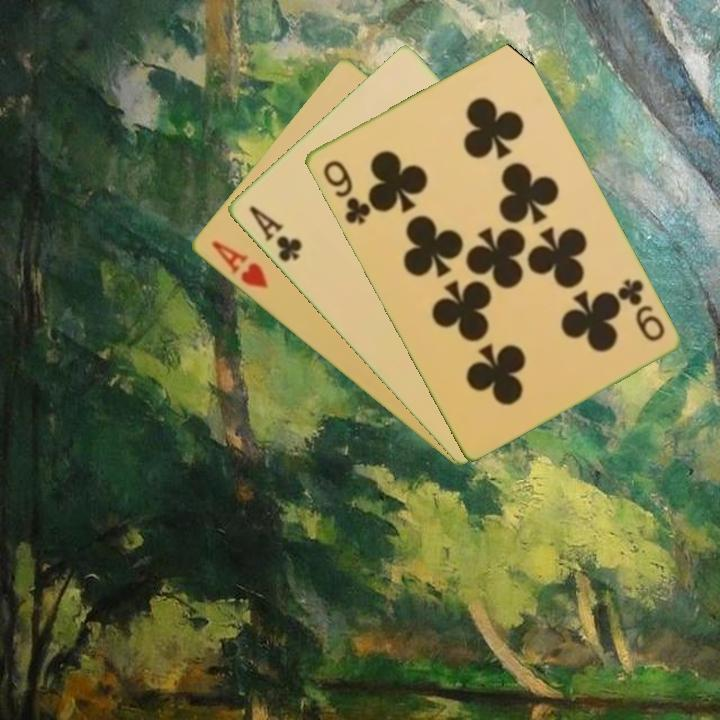9c: (319, 156, 373, 227), (613, 275, 668, 344)
Ac: (245, 202, 305, 265)
Ah: (207, 237, 271, 292)
